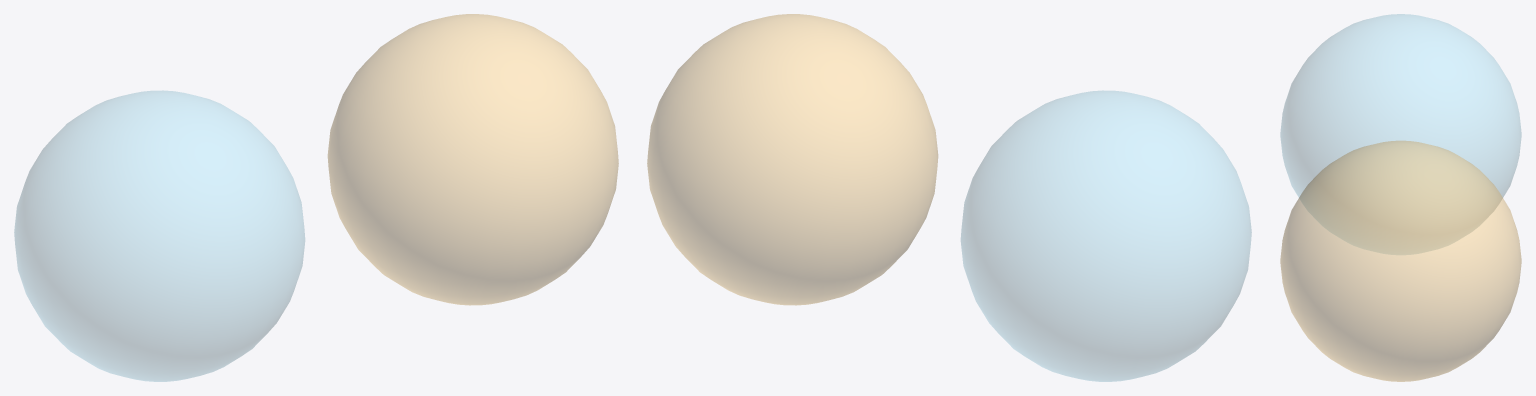
Rendered from glass-pair.gltf.
3 views of the same model, side by side, from view 1: azimuth 30°, elevation 25°; view 2: azimuth 150°, elevation 25°; view 3: azimuth 270°, elevation 25° (orthographic). The views are drawn at different scales.
Visible parts, largest first — view 1: Amber, Pale blue; view 2: Amber, Pale blue; view 3: Amber, Pale blue.
Part boxes in pixels (x1=…): Amber: x1=327, y1=14, x2=618, y2=305; Pale blue: x1=14, y1=90, x2=304, y2=381; Amber: x1=647, y1=14, x2=938, y2=305; Pale blue: x1=961, y1=90, x2=1251, y2=381; Amber: x1=1280, y1=140, x2=1521, y2=381; Pale blue: x1=1280, y1=14, x2=1521, y2=254.
Size of the model in its own units: 1.12 by 0.5 by 0.5.
